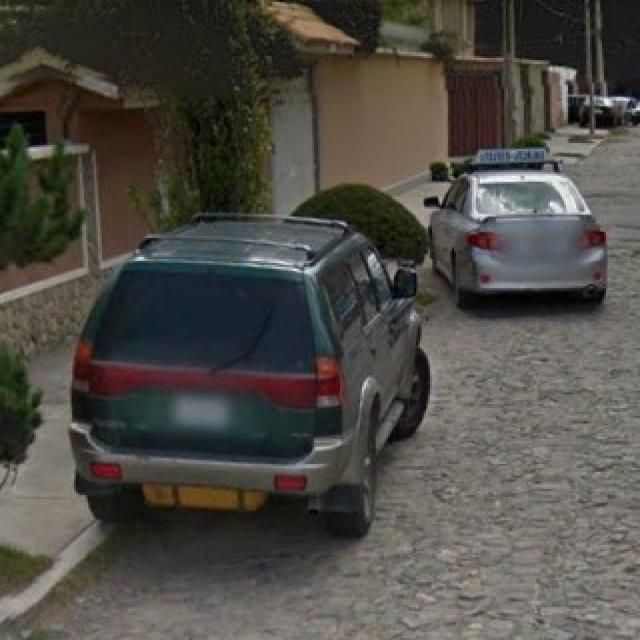cars: (79, 210, 437, 538), (441, 152, 618, 306)
